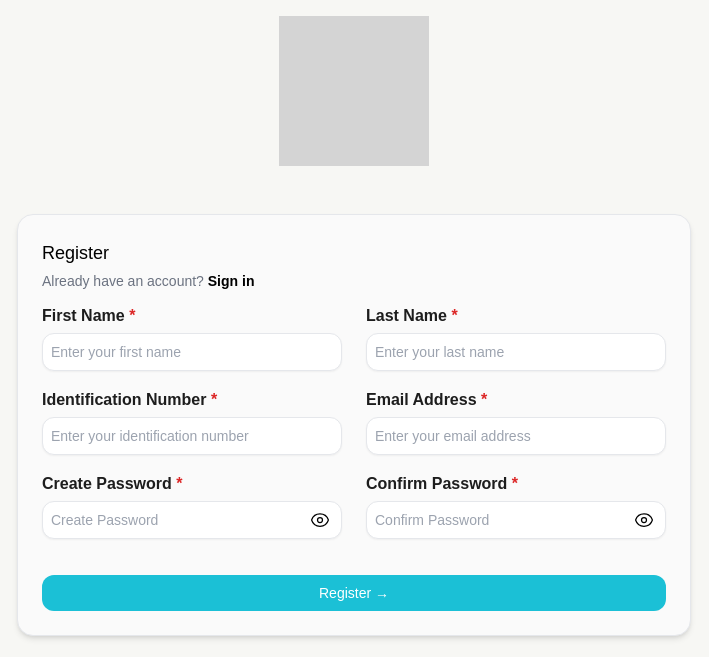
Scenario: AdminRegistration Component › shows error message for mismatched passwords
Type "StrongPass123!" into the password field labelled "Create Password *" at x=192, y=520, box left=42, top=501, right=342, bottom=539
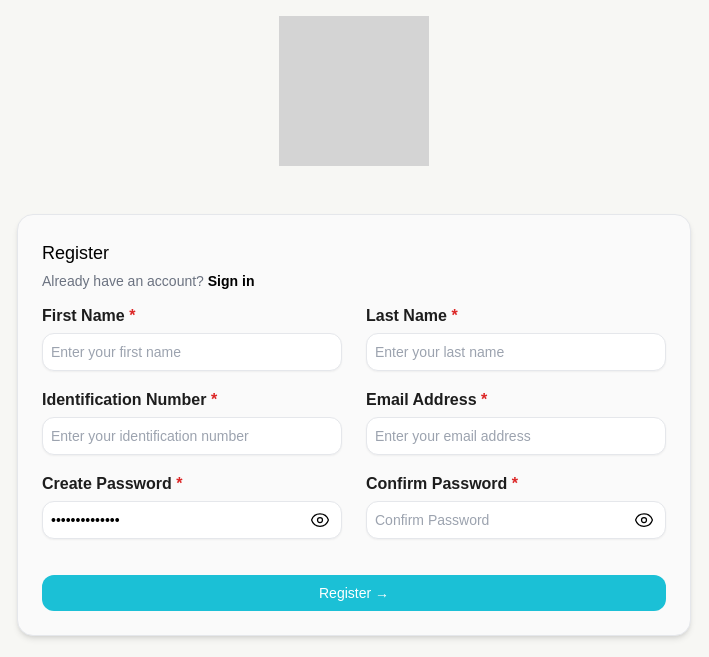
Type "DifferentPass123!" into the password field labelled "Confirm Password *" at x=516, y=520, box left=366, top=501, right=666, bottom=539
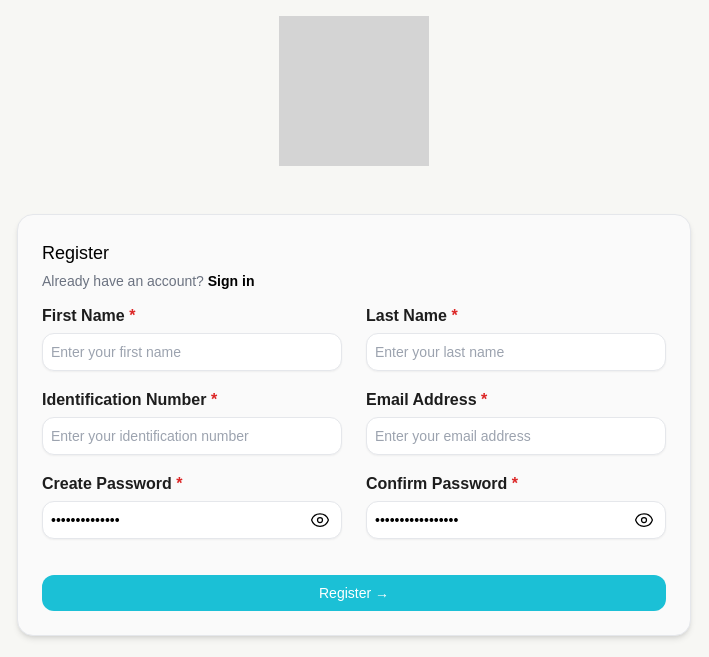
Click the button "Register →" at x=354, y=593, box left=42, top=575, right=666, bottom=611
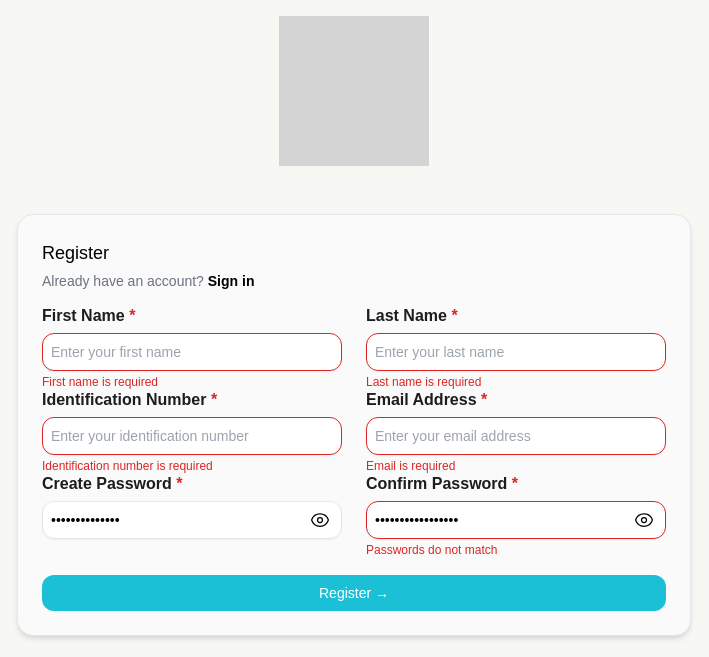
Result: the text "Passwords do not match" is shown at left=366, top=543, right=497, bottom=557
